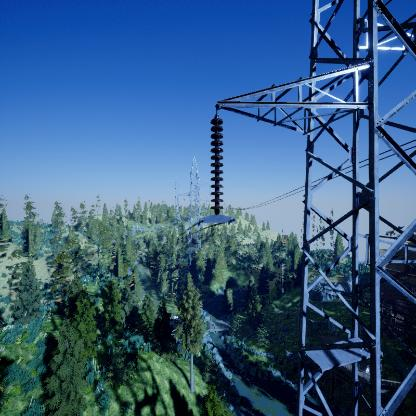insulator: (208, 114, 225, 214)
